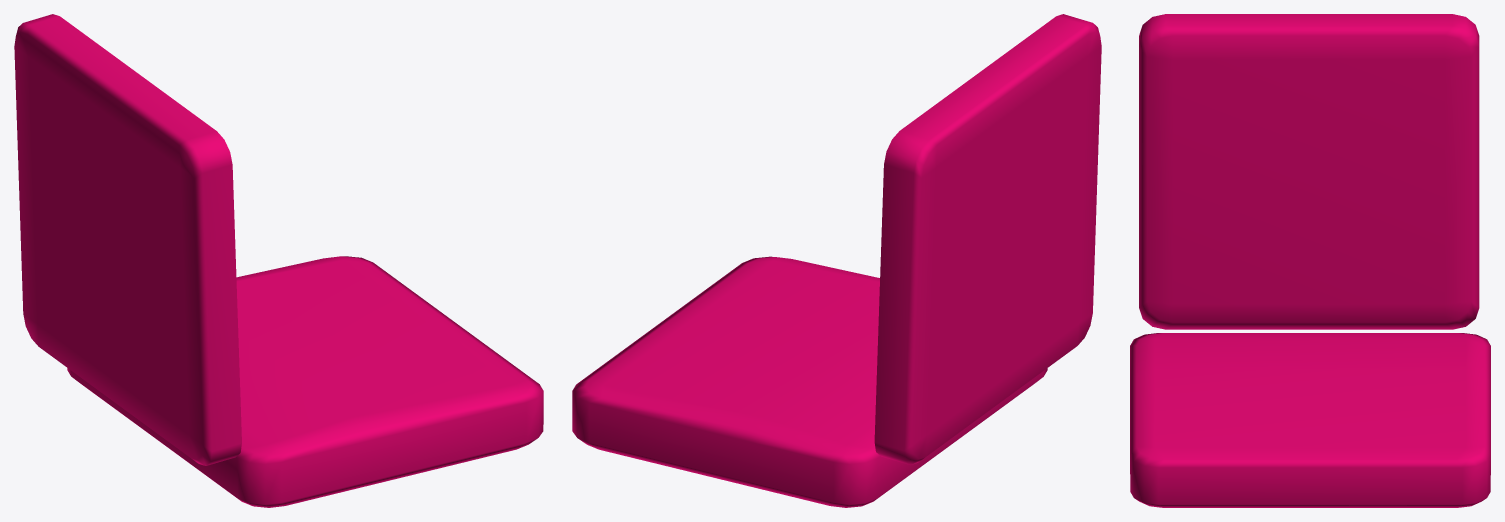
Rendered from Chair_02_Lod1.fbx.
3 renders of one model, left to right at view 1: azimuth 30°, elevation 25°; view 2: azimuth 150°, elevation 25°; view 3: azimuth 270°, elevation 25°, orthographic. The views are drawn at different scales.
Parts seen in each view (by area): view 1: Chair_02_Lod1; view 2: Chair_02_Lod1; view 3: Chair_02_Lod1.
Part boxes in pixels (bbox=[...]): Chair_02_Lod1: bbox=[14, 14, 543, 507]; Chair_02_Lod1: bbox=[572, 14, 1101, 507]; Chair_02_Lod1: bbox=[1130, 14, 1490, 507].
Size of the model in its own units: 50.23 by 50.96 by 48.54.
